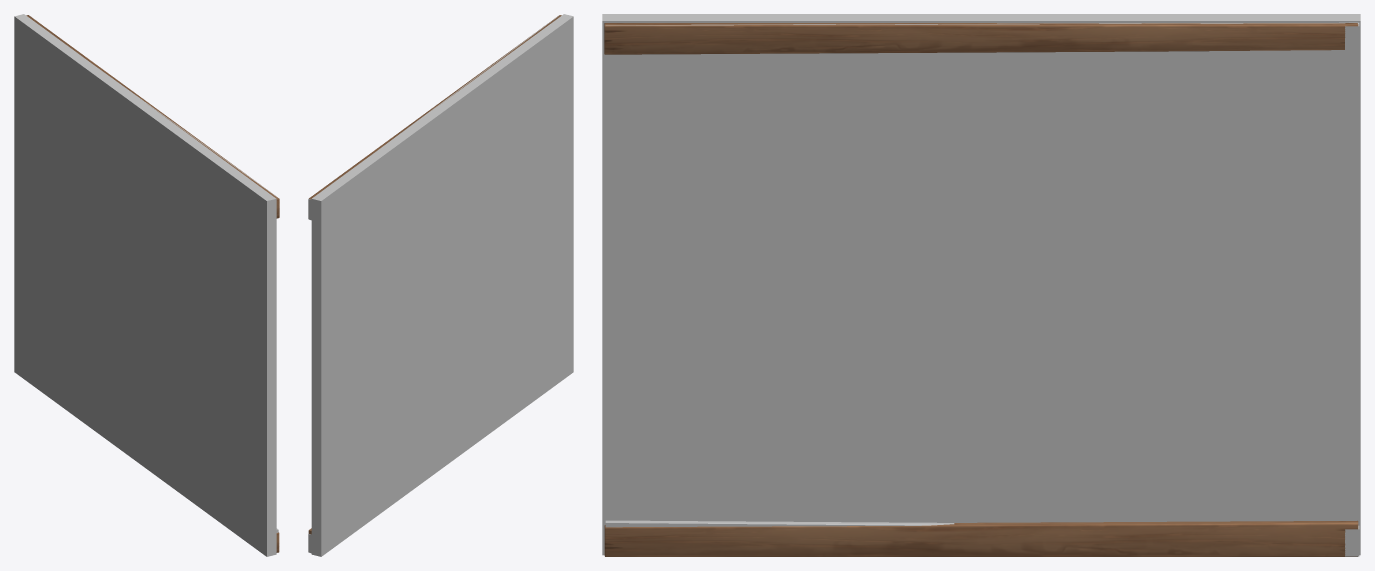
File: SM_Hangar01W_2.fbx
3 views of the same model, side by side, from view 1: azimuth 30°, elevation 25°; view 2: azimuth 150°, elevation 25°; view 3: azimuth 270°, elevation 25° (orthographic). The views are drawn at different scales.
Visible parts, largest first — view 1: SM_Hangar01W_2_ConvexHulls, SM_Hangar01W_2; view 2: SM_Hangar01W_2_ConvexHulls, SM_Hangar01W_2; view 3: SM_Hangar01W_2_ConvexHulls, SM_Hangar01W_2.
Part boxes in pixels (x1,y1,x2,y2): SM_Hangar01W_2_ConvexHulls: [14, 14, 278, 556]; SM_Hangar01W_2: [26, 15, 279, 552]; SM_Hangar01W_2_ConvexHulls: [308, 14, 573, 556]; SM_Hangar01W_2: [308, 15, 561, 534]; SM_Hangar01W_2_ConvexHulls: [602, 14, 1360, 556]; SM_Hangar01W_2: [604, 23, 1358, 556].
Size of the model in its own units: 13.99 by 452 by 351.
4 materials, 3 textured.
